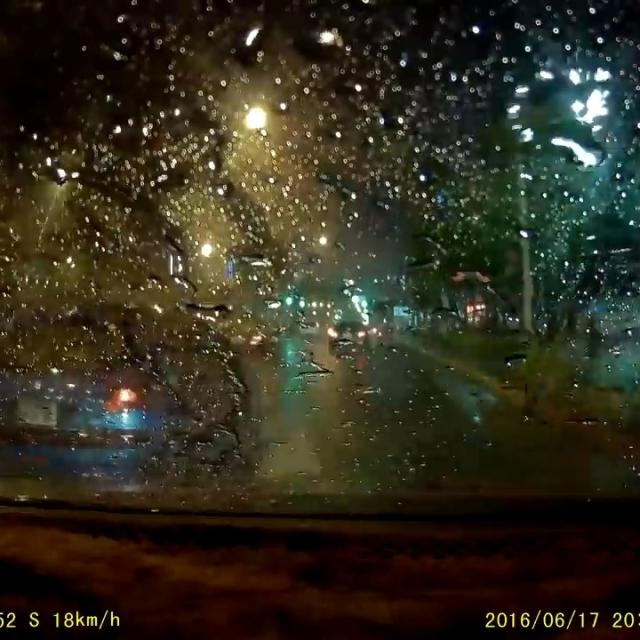Car: (2, 300, 262, 495), (224, 316, 283, 359), (324, 318, 371, 360), (298, 319, 321, 339)
